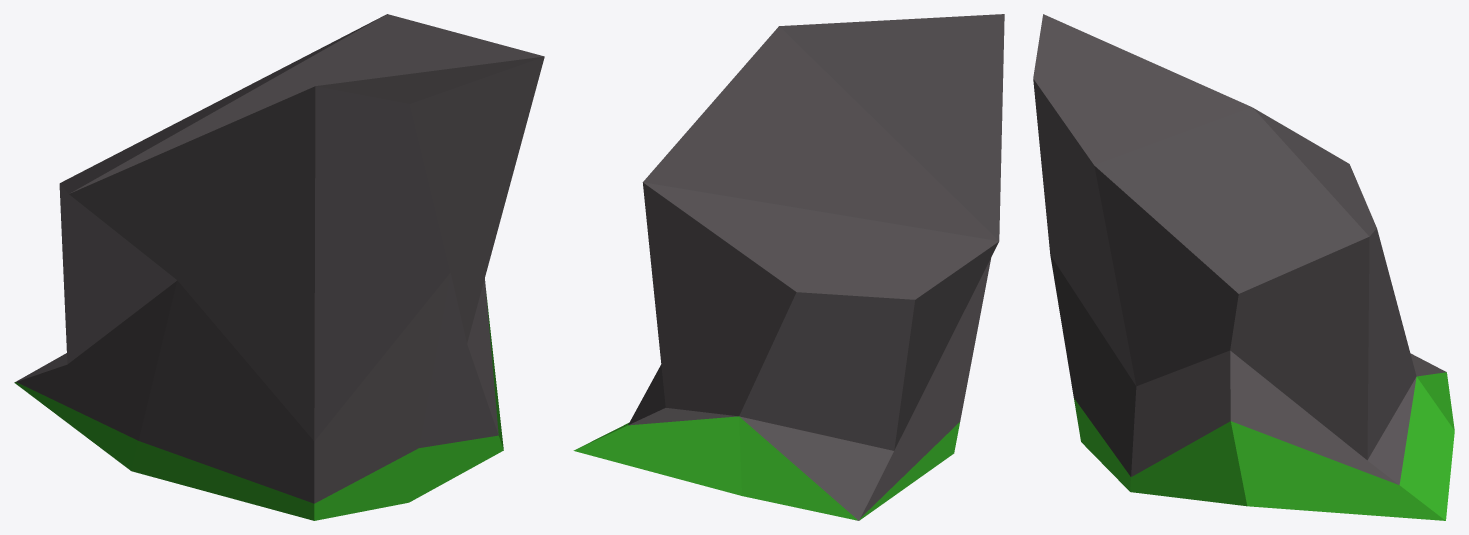
Rendered from boulder3.fbx.
3 views of the same model, side by side, from view 1: azimuth 30°, elevation 25°; view 2: azimuth 150°, elevation 25°; view 3: azimuth 270°, elevation 25° (orthographic). The views are drawn at different scales.
Visible parts, largest first — view 1: Circle.009; view 2: Circle.009; view 3: Circle.009.
Boxes of the visible parts, box(x1,y1,x2,y2) form: Circle.009: box(14, 14, 544, 520); Circle.009: box(573, 14, 1004, 520); Circle.009: box(1033, 14, 1454, 520).
Bounding box in the file's own units: 258 × 263 × 264.
